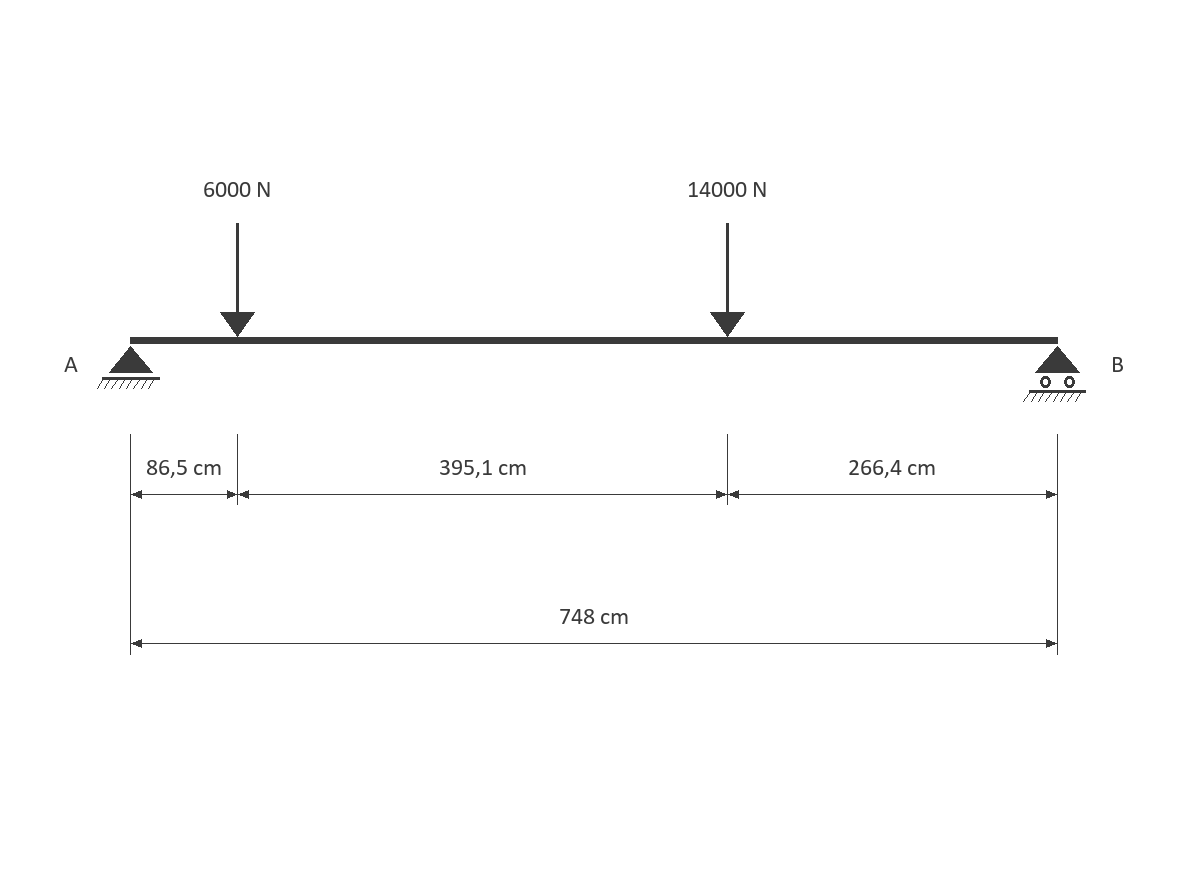pin_support: (97, 346, 160, 389)
point_load: (220, 223, 255, 337), (710, 223, 745, 337)
roller_support: (1023, 346, 1086, 402)
